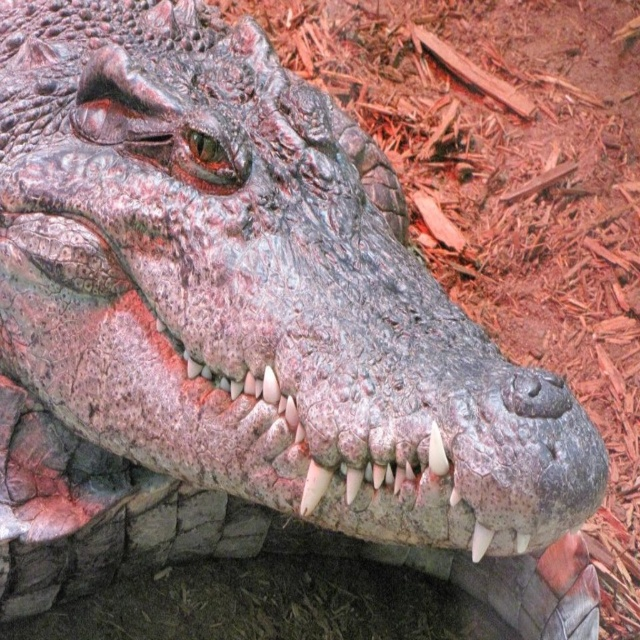Crocodile: (0, 0, 610, 639)
